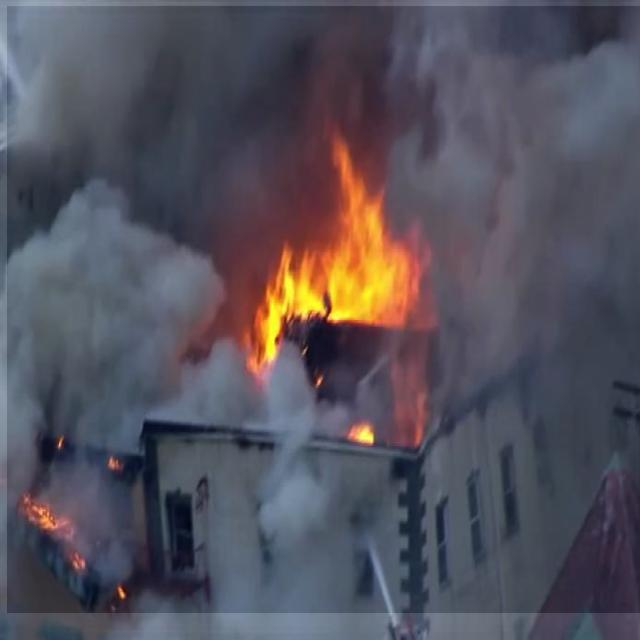Fire: (249, 146, 430, 402), (18, 487, 106, 590), (99, 446, 132, 484), (112, 561, 133, 607), (52, 436, 74, 461)
Smoke: (7, 6, 640, 613)
